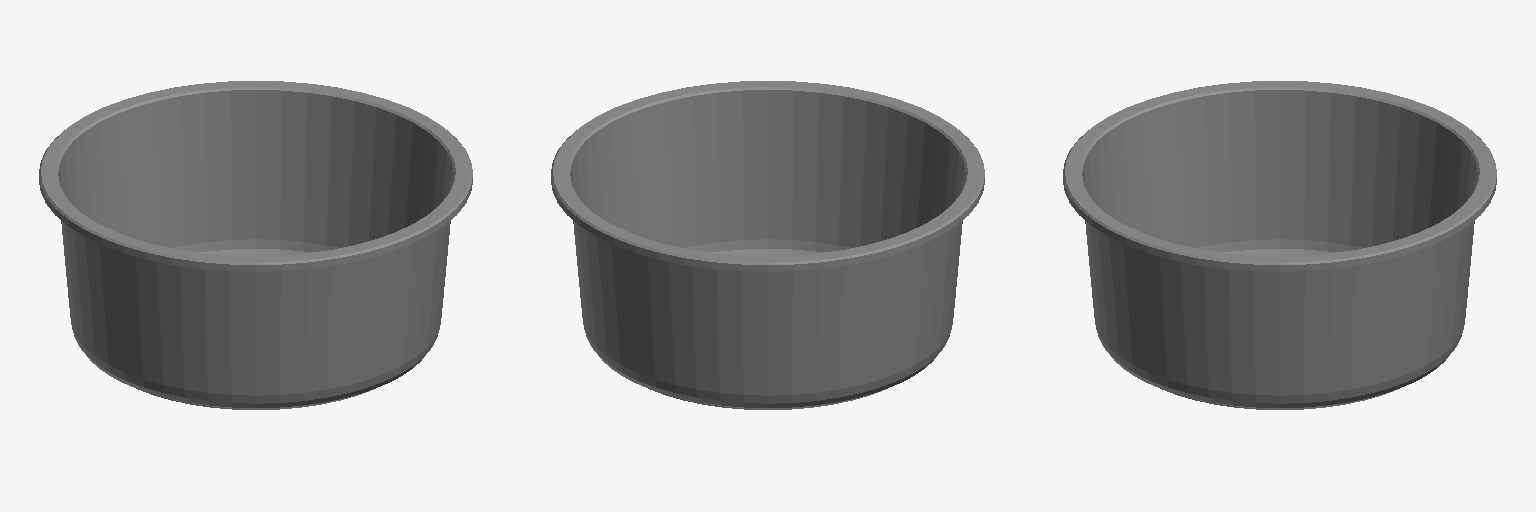
File: PlasticWashBasin.obj
The picture shows the model from 3 angles: view 1: azimuth 30°, elevation 25°; view 2: azimuth 150°, elevation 25°; view 3: azimuth 270°, elevation 25°; orthographic projection.
Parts seen in each view (by area): view 1: Plastic_Wash_Basin; view 2: Plastic_Wash_Basin; view 3: Plastic_Wash_Basin.
Part boxes in pixels (x1,y1,x2,y2): Plastic_Wash_Basin: (39,81,472,409); Plastic_Wash_Basin: (551,81,984,409); Plastic_Wash_Basin: (1063,81,1496,409).
Bounding box in the file's own units: 10.79 × 4.63 × 10.79.